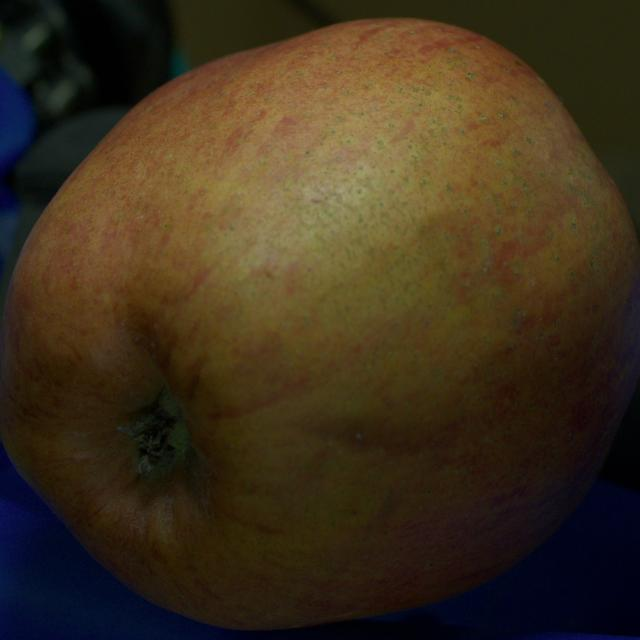apple: (0, 19, 639, 628)
